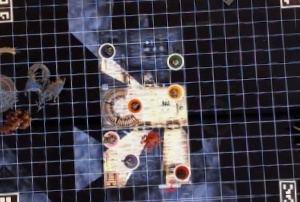blue: (97, 41, 116, 58)
green: (165, 51, 184, 70)
orange: (125, 97, 144, 114)
pink: (101, 128, 120, 148)
red: (173, 161, 191, 181)
violet: (122, 152, 141, 168)
yellow: (164, 81, 184, 99)
